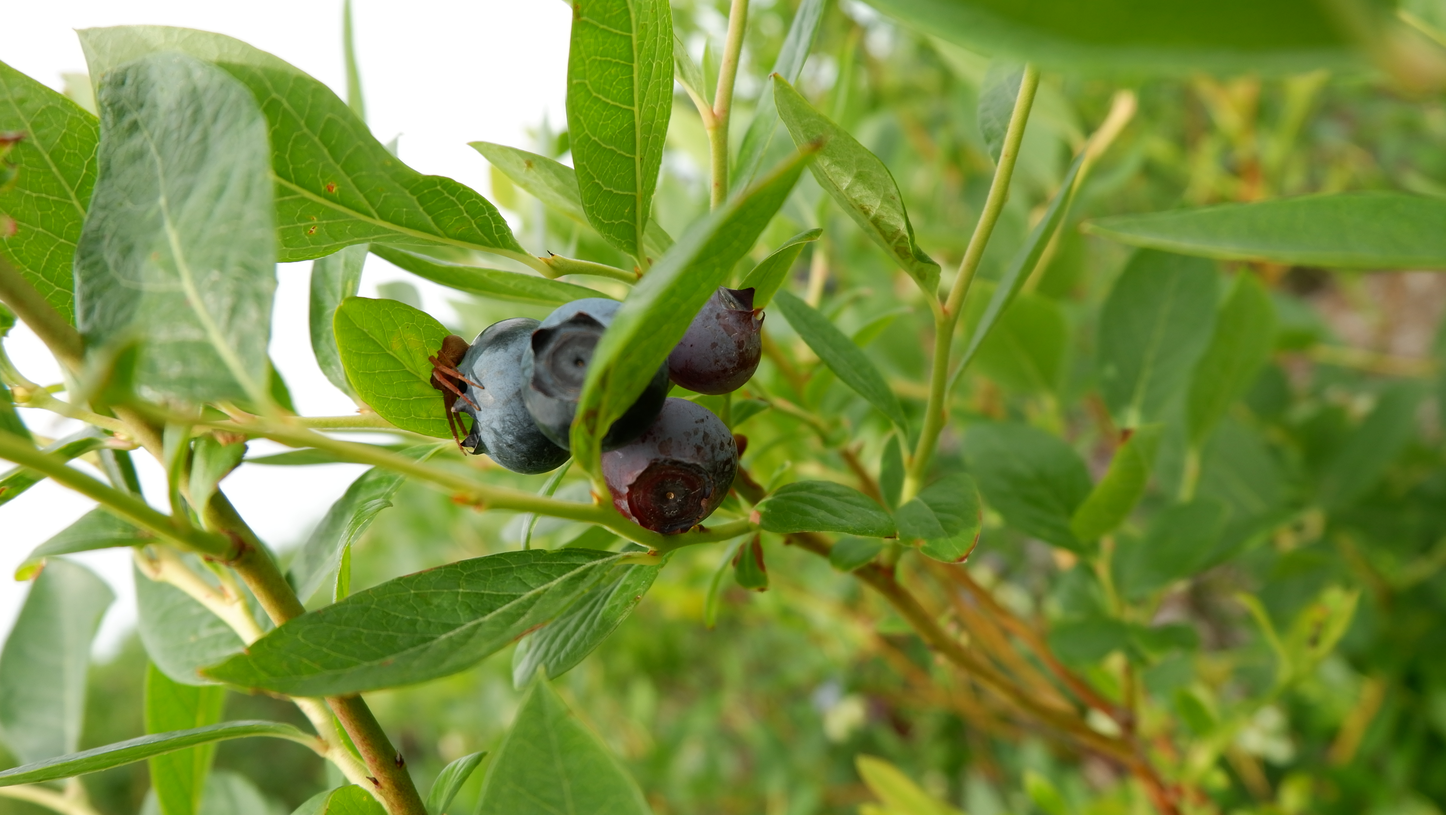Mature: (519, 298, 669, 455), (450, 317, 574, 474), (601, 397, 740, 536), (668, 284, 766, 397)
